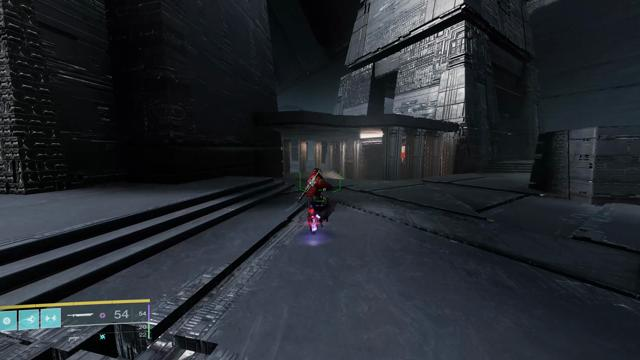kill: (400, 141, 406, 165)
